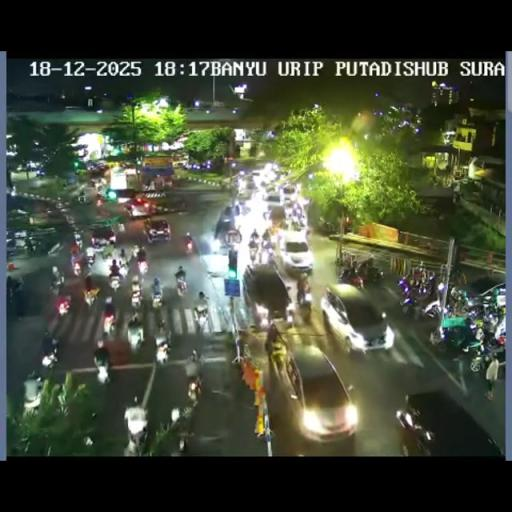Car: (274, 336, 356, 441), (400, 388, 502, 455), (321, 282, 394, 353), (242, 262, 290, 328), (276, 230, 314, 276), (212, 204, 238, 244), (143, 218, 171, 243), (125, 196, 155, 218), (90, 225, 116, 247), (250, 168, 274, 190), (236, 172, 256, 198), (266, 205, 286, 228), (280, 183, 298, 205)
Motorcycle: (103, 295, 188, 368), (434, 317, 481, 362), (398, 268, 440, 315), (63, 409, 102, 453), (462, 294, 504, 328), (170, 402, 195, 452), (238, 325, 265, 371), (478, 336, 506, 377), (22, 374, 44, 412), (6, 275, 25, 315), (338, 264, 366, 290), (93, 346, 111, 382), (122, 428, 146, 455), (294, 289, 313, 323), (448, 286, 470, 315), (13, 426, 35, 454), (45, 304, 64, 335), (41, 338, 59, 370), (127, 314, 143, 348), (154, 338, 172, 368), (193, 303, 209, 335), (186, 374, 202, 404), (288, 202, 306, 228), (55, 379, 69, 410), (232, 199, 251, 219), (84, 274, 98, 301), (318, 217, 338, 235), (130, 280, 143, 307), (102, 310, 115, 337), (157, 317, 169, 344), (174, 274, 188, 297), (70, 253, 84, 276), (368, 266, 384, 286), (452, 267, 467, 288), (151, 284, 163, 308), (108, 270, 122, 290), (116, 254, 130, 274), (261, 244, 274, 264), (137, 255, 149, 276), (252, 184, 266, 202), (51, 273, 64, 292), (248, 241, 259, 263), (58, 297, 70, 316), (102, 242, 114, 259), (115, 219, 126, 237), (342, 215, 352, 234), (85, 250, 96, 267), (184, 237, 194, 255), (73, 232, 83, 250), (25, 237, 35, 255), (262, 228, 271, 247), (250, 228, 259, 244), (77, 193, 89, 204), (94, 179, 104, 191), (96, 195, 103, 207)
